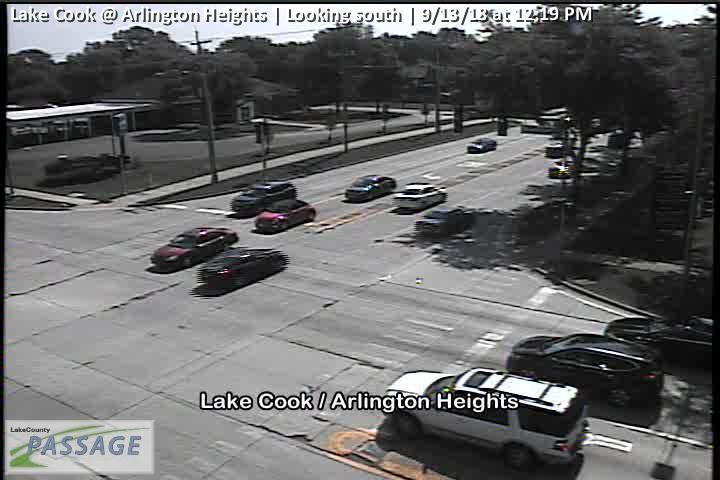SUV: (386, 368, 588, 472), (510, 333, 664, 408), (605, 313, 713, 362), (199, 247, 287, 288), (231, 180, 297, 211)
Sedan: (152, 227, 239, 268), (256, 198, 316, 235), (415, 205, 476, 236), (346, 174, 396, 199), (468, 138, 497, 152)
Truck: (393, 183, 448, 211)
